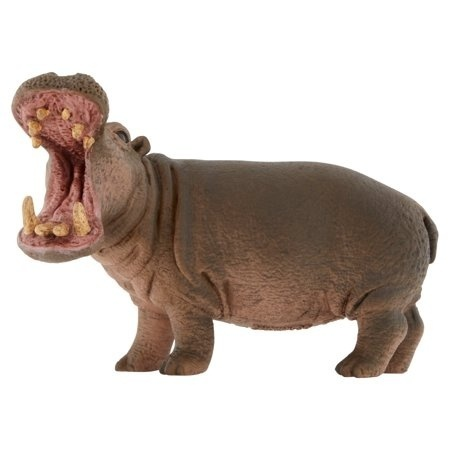hipopotamo: (4, 49, 446, 388)
